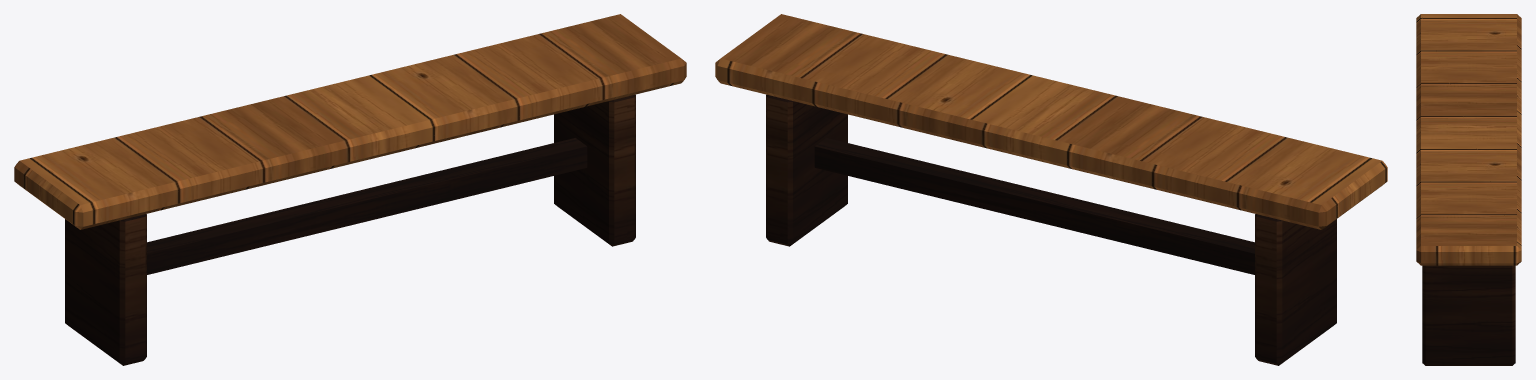
Rendered from interior_bench.glb.
3 renders of one model, left to right at view 1: azimuth 30°, elevation 25°; view 2: azimuth 150°, elevation 25°; view 3: azimuth 270°, elevation 25°, orthographic. The views are drawn at different scales.
Parts seen in each view (by area): view 1: interior_bench; view 2: interior_bench; view 3: interior_bench.
Part boxes in pixels (x1,y1,x2,y2): interior_bench: [14, 14, 686, 365]; interior_bench: [715, 14, 1387, 365]; interior_bench: [1416, 14, 1521, 365].
Size of the model in its own units: 1.8 by 0.49 by 0.34.
2 materials, 2 textured.
